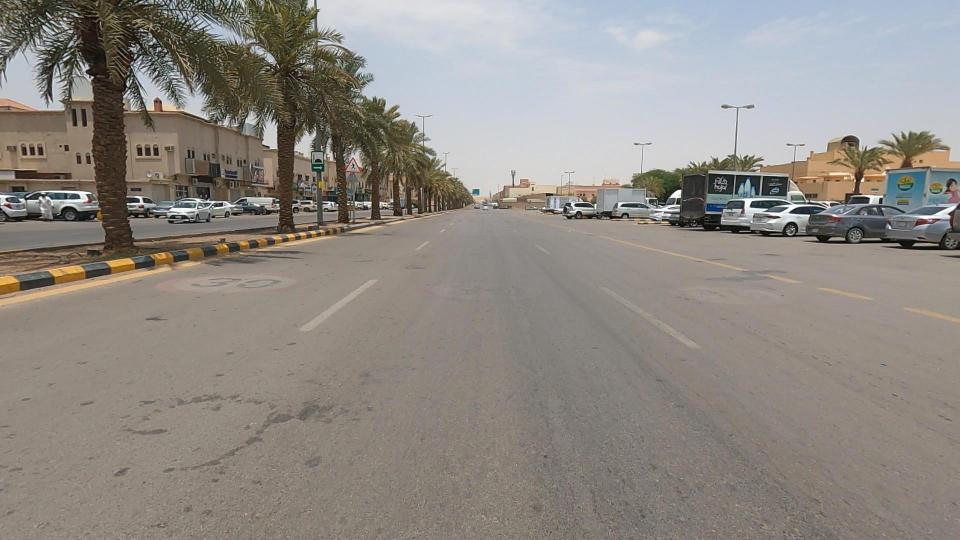BAD_BILLBOARD: (163, 137, 230, 199)
